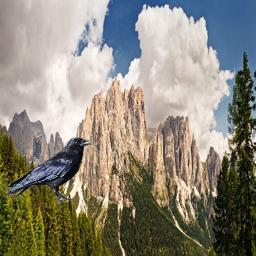Crow: (3, 135, 94, 205)
